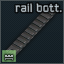HK UMP bottom handguard rail: (0, 0, 64, 64)
